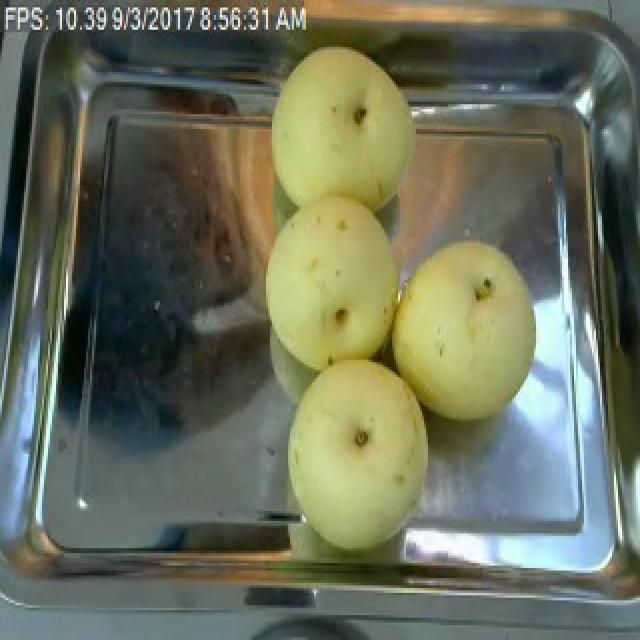Fruit: (270, 347, 442, 563), (378, 226, 546, 429), (262, 35, 424, 223), (252, 194, 410, 382)
